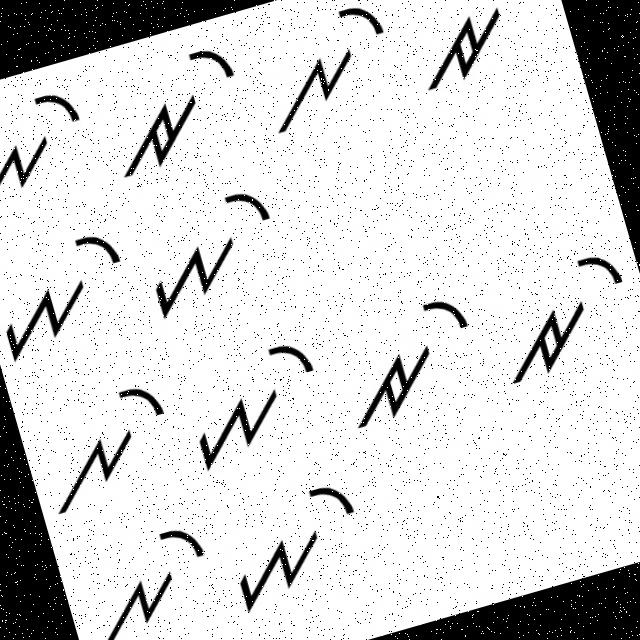lay: (21, 370, 188, 524), (63, 506, 237, 639), (247, 0, 412, 140), (0, 72, 103, 231)
ray: (318, 282, 494, 442), (88, 27, 262, 184), (476, 238, 639, 399), (394, 0, 562, 95)
yay: (210, 470, 382, 635), (121, 175, 296, 328), (168, 334, 338, 482), (0, 216, 145, 371)
